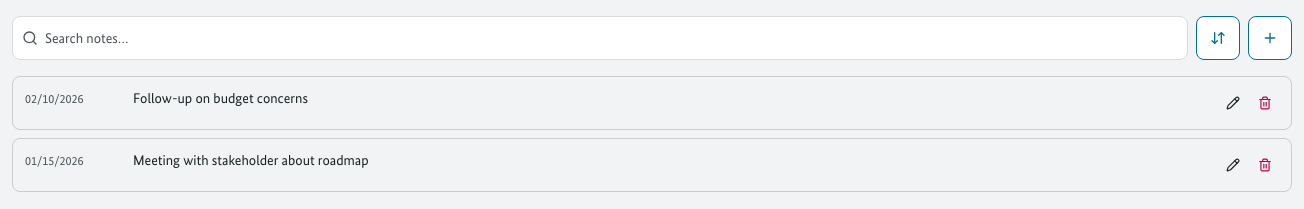
StakeholderLogsTab — search filtering › search input filters visible logs
Type "roadmap" into the field. click: (600, 38)
box: x1=12 y1=16 x2=1188 y2=60
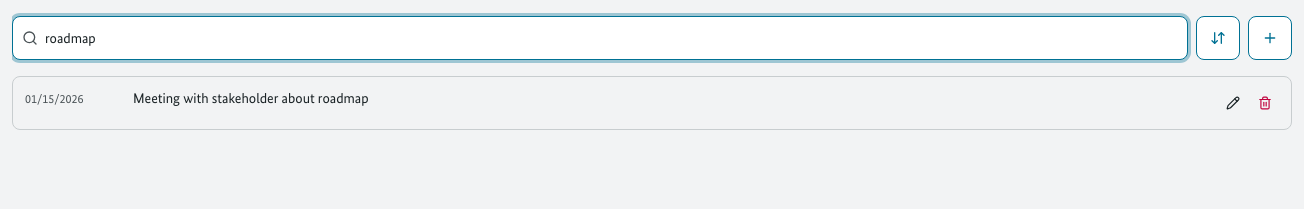
Expected: the text "Meeting with stakeholder about roadmap" is shown, x1=133 y1=90 x2=369 y2=107
Expected: the text "Follow-up on budget concerns" is gone
